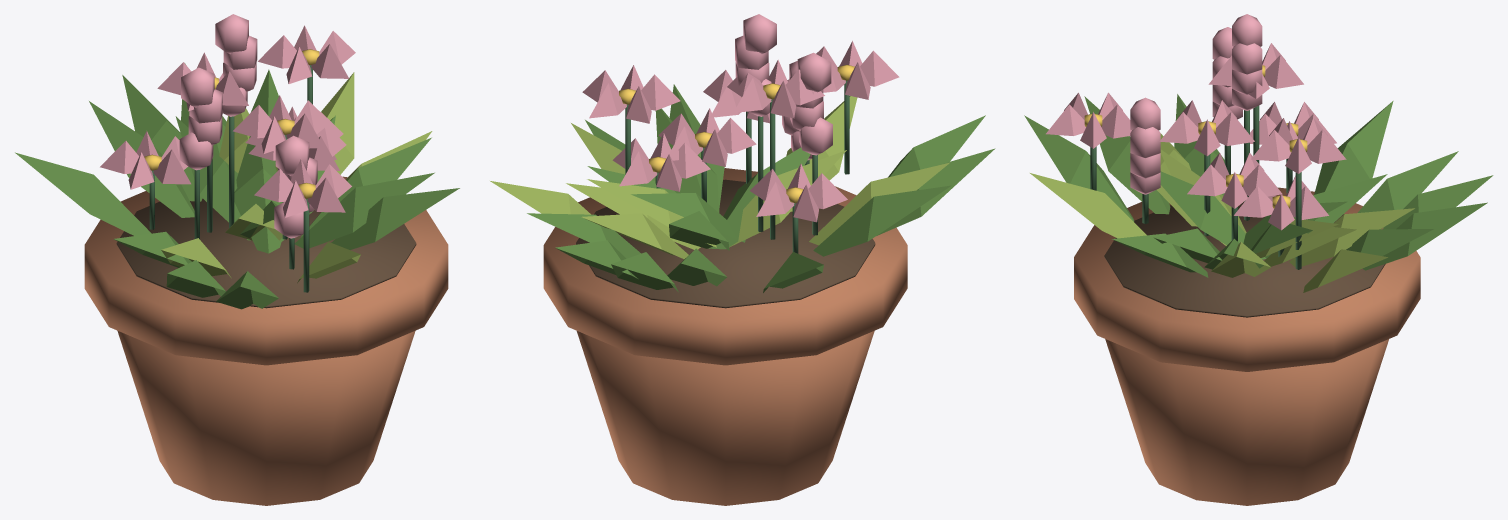
Rendered from flower_pot_2.glb.
3 views of the same model, side by side, from view 1: azimuth 30°, elevation 25°; view 2: azimuth 150°, elevation 25°; view 3: azimuth 270°, elevation 25° (orthographic). The views are drawn at different scales.
Visible parts, largest first — view 1: flower_pot_2; view 2: flower_pot_2; view 3: flower_pot_2.
Part boxes in pixels (left/top/right/bottom): flower_pot_2: left=15, top=14, right=459, bottom=505; flower_pot_2: left=490, top=14, right=995, bottom=505; flower_pot_2: left=1024, top=14, right=1493, bottom=505.
Size of the model in its own units: 0.7597 by 0.938 by 0.9217.
